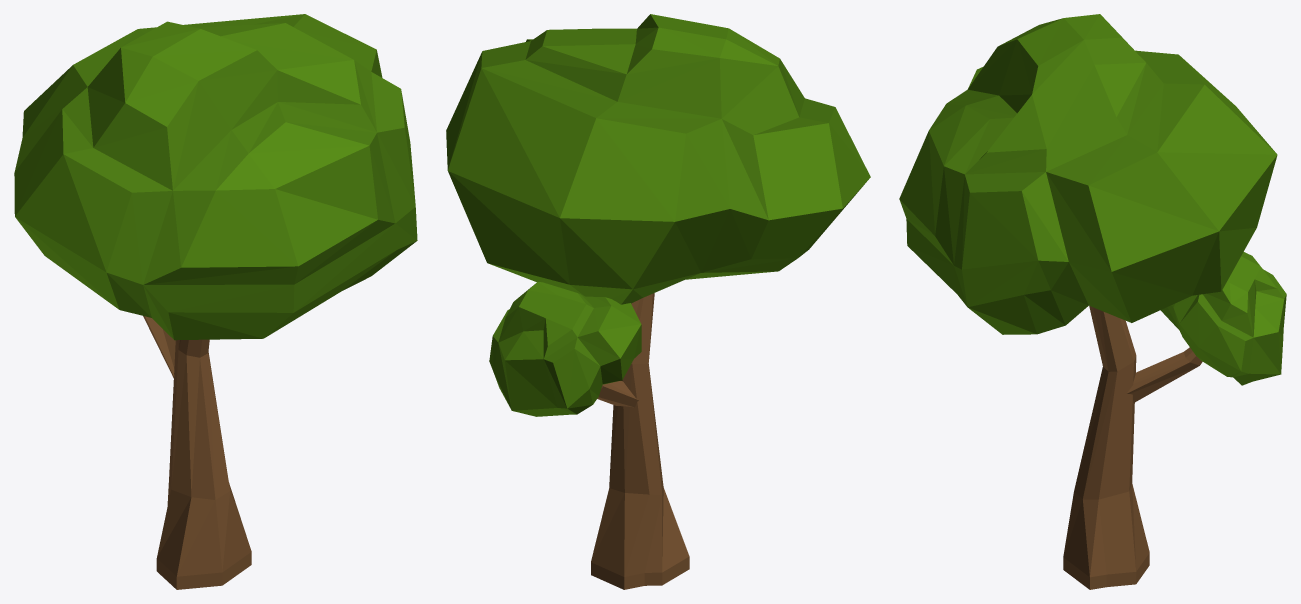
File: Tree_02.FBX
The picture shows the model from 3 angles, left to right: view 1: azimuth 30°, elevation 25°; view 2: azimuth 150°, elevation 25°; view 3: azimuth 270°, elevation 25°; orthographic projection. The views are drawn at different scales.
Visible parts, largest first — view 1: Tree_02; view 2: Tree_02; view 3: Tree_02.
Part boxes in pixels (x1,y1,x2,y2): Tree_02: (14, 14, 417, 589); Tree_02: (446, 14, 870, 589); Tree_02: (899, 14, 1286, 589).
Bounding box in the file's own units: 3.09 × 4.17 × 2.79.
